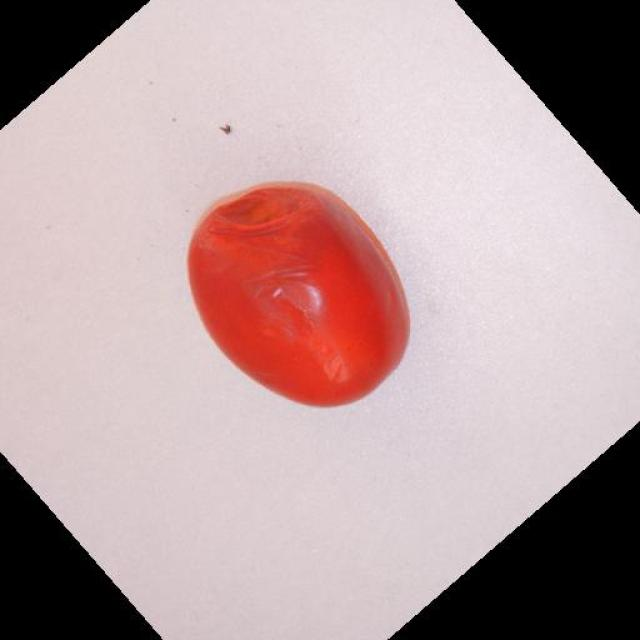Stale_tomato: (197, 189, 383, 379)
